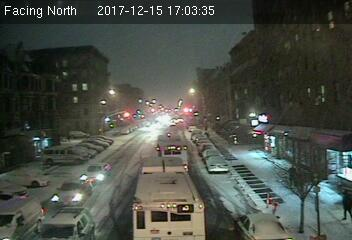bus: (134, 156, 209, 240), (155, 133, 190, 172)
car: (35, 207, 92, 240), (233, 210, 294, 240), (48, 175, 98, 208), (79, 161, 113, 185), (206, 156, 231, 172)
